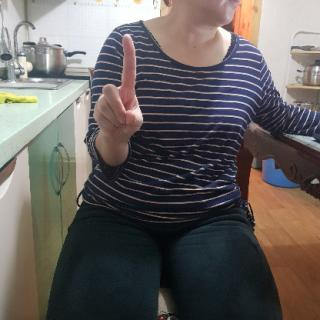BAA: (91, 33, 150, 146)
